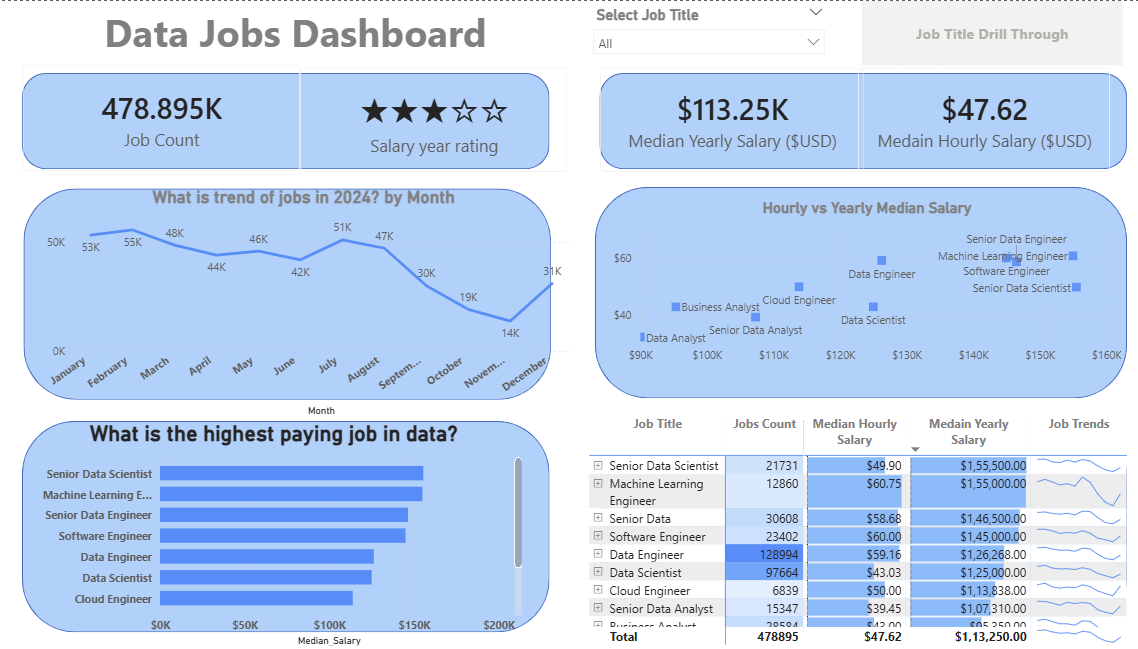

What the dashboard file says about the page in this screenshot:
{"tool":"powerbi","page":{"name":"Data Jobs Dashboard","canvas":[1280,720],"ordinal":0},"visuals":[{"type":"group","id":"g1","title":"Background","box":[25.9,79.3,1227.5,621.8],"z":0},{"type":"shape","box":[25.9,79.3,586.2,106.9],"z":0,"group":"g1"},{"type":"textbox","box":[9.7,0,641.2,71.2],"z":1000},{"type":"shape","box":[667.1,79.3,586.2,106.9],"z":1000,"group":"g1"},{"type":"slicer","fields":{"Values":["job_postings_flat.job_title_short"]},"box":[650.9,0,276.9,71.2],"z":2000},{"type":"shape","box":[27.5,207.2,586.2,234.8],"z":2000,"group":"g1"},{"type":"cardVisual","fields":{"Data":["CountNonNull(job_postings_flat.job_title_short)"]},"box":[9.6,53.9,342.8,152.1],"z":3000},{"type":"shape","box":[662.4,206.7,591,234.8],"z":3000,"group":"g1"},{"type":"cardVisual","fields":{"Data":["job_postings_flat.Salary year rating"]},"box":[319,56.7,331.9,150.6],"z":4000},{"type":"shape","box":[25.9,466.3,586.2,234.8],"z":4000,"group":"g1"},{"type":"cardVisual","fields":{"Data":["Median(job_postings_flat.salary_year_avg)"]},"box":[650.9,56.7,327.1,150.6],"z":5000},{"type":"shape","box":[667.1,466.3,586.2,234.8],"z":5000,"group":"g1"},{"type":"cardVisual","fields":{"Data":["Median(job_postings_flat.salary_hour_avg)"]},"box":[939.2,56.7,314.1,150.6],"z":6000},{"type":"lineChart","fields":{"Category":["job_postings_flat.job_posted_date.Variation.Date Hierarchy.Month","job_postings_flat.job_posted_date.Variation.Date Hierarchy.Day"],"Y":["CountNonNull(job_postings_flat.job_title_short)"]},"box":[40.5,207.3,599.1,259.1],"z":7000},{"type":"barChart","title":"What is the highest paying job in data?","fields":{"Category":["job_postings_flat.job_title_short"],"Y":["Median(job_postings_flat.salary_year_avg)"]},"box":[25.9,466.3,560.3,254.2],"z":8000},{"type":"pivotTable","fields":{"Rows":["job_postings_flat.job_title_short","job_postings_flat.job_posted_date.Variation.Date Hierarchy.Year","job_postings_flat.job_posted_date.Variation.Date Hierarchy.Quarter","job_postings_flat.job_posted_date.Variation.Date Hierarchy.Month","job_postings_flat.job_posted_date.Variation.Date Hierarchy.Day"],"Values":["CountNonNull(job_postings_flat.job_title_short)","Median(job_postings_flat.salary_hour_avg)","Median(job_postings_flat.salary_year_avg)","SparklineData(CountNonNull(job_postings_flat.job_title_short)_[job_postings_flat.job_posted_date.Variation.Date Hierarch"]},"box":[650.9,453.4,629.9,267.2],"z":9000},{"type":"scatterChart","title":"Hourly vs Yearly Median Salary","fields":{"X":["Median(job_postings_flat.salary_year_avg)"],"Y":["Median(job_postings_flat.salary_hour_avg)"],"Category":["job_postings_flat.job_title_short"]},"box":[678.5,220.2,574.8,191.1],"z":10000},{"type":"actionButton","box":[960.2,0,289.8,71.2],"z":11000}]}

Visuals, with their boxes in screenshot pixels (x1, y1, x2, y2), scaled from the page's 1280x720 canvas onto the 1138x649 screenshot:
"Background" group: left=23, top=71, right=1114, bottom=632
shape: left=23, top=71, right=544, bottom=168
textbox: left=9, top=0, right=579, bottom=64
shape: left=593, top=71, right=1114, bottom=168
slicer - job_postings_flat.job_title_short: left=579, top=0, right=825, bottom=64
shape: left=24, top=187, right=546, bottom=398
cardVisual - CountNonNull(job_postings_flat.job_title_short): left=9, top=49, right=313, bottom=186
shape: left=589, top=186, right=1114, bottom=398
cardVisual - job_postings_flat.Salary year rating: left=284, top=51, right=579, bottom=187
shape: left=23, top=420, right=544, bottom=632
cardVisual - Median(job_postings_flat.salary_year_avg): left=579, top=51, right=870, bottom=187
shape: left=593, top=420, right=1114, bottom=632
cardVisual - Median(job_postings_flat.salary_hour_avg): left=835, top=51, right=1114, bottom=187
lineChart - job_postings_flat.job_posted_date.Variation.Date Hierarchy.Month x job_postings_flat.job_posted_date.Variation.Date Hierarchy.Day: left=36, top=187, right=569, bottom=420
"What is the highest paying job in data?" barChart: left=23, top=420, right=521, bottom=648
pivotTable - job_postings_flat.job_title_short x job_postings_flat.job_posted_date.Variation.Date Hierarchy.Year: left=579, top=409, right=1137, bottom=648
"Hourly vs Yearly Median Salary" scatterChart: left=603, top=198, right=1114, bottom=371
actionButton: left=854, top=0, right=1111, bottom=64
